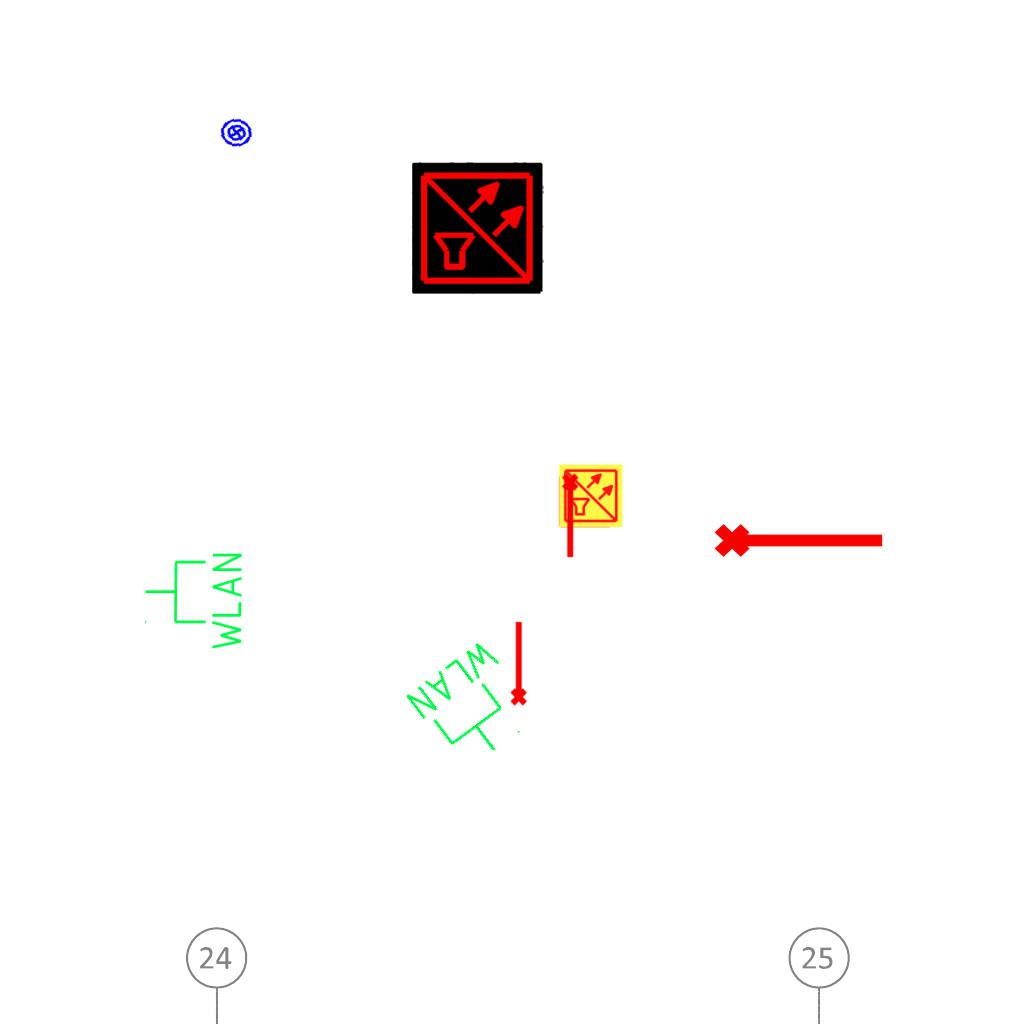ASR_Ansaugoeffnung: (712, 515, 888, 561), (506, 619, 529, 707), (560, 472, 583, 560)
OKW_Multisensormelder_(Kombination_optischer_Rauch-Kahlenmonoxid_Waerme-Melder): (412, 162, 544, 294), (558, 463, 624, 529)
Taster_beleuchtet: (217, 113, 256, 152)
WLAN: (399, 632, 547, 779), (142, 549, 246, 654)
